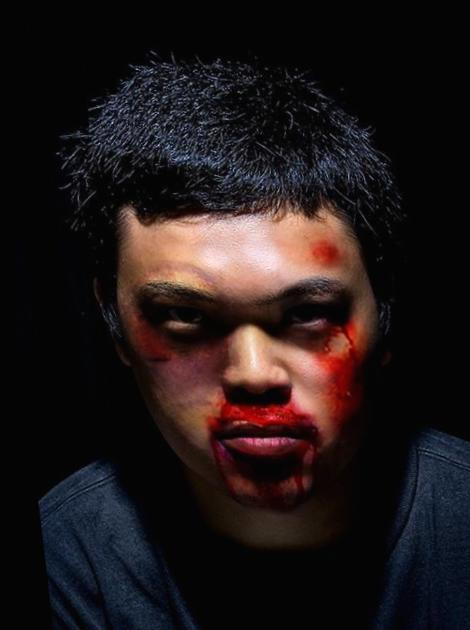Fire: (204, 398, 314, 507), (314, 322, 367, 434), (121, 315, 170, 368), (309, 235, 343, 263)
